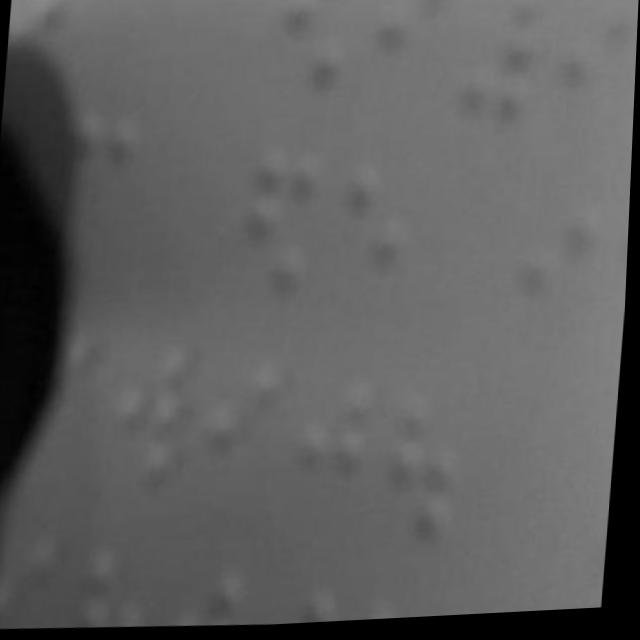braiile: (281, 387, 381, 560), (235, 148, 327, 336), (328, 161, 424, 337), (102, 339, 198, 509), (196, 365, 291, 535), (376, 396, 468, 562), (458, 5, 552, 148), (366, 0, 453, 145), (557, 11, 639, 162), (270, 0, 360, 129), (71, 547, 157, 631), (162, 557, 250, 631)
